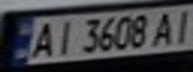0: (115, 12, 136, 51)
3: (75, 16, 103, 54)
6: (97, 15, 118, 53)
8: (130, 11, 154, 50)
A: (24, 19, 60, 60), (148, 8, 181, 47)
I: (51, 17, 78, 57), (169, 6, 193, 44)
